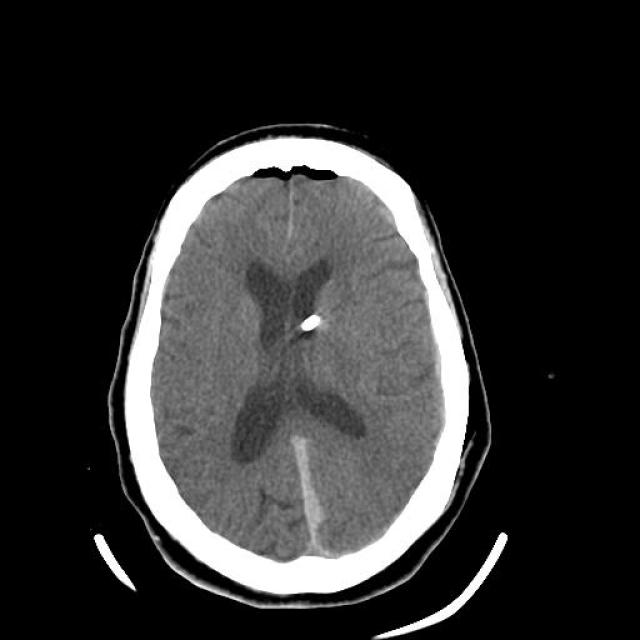Subdural: (271, 424, 351, 576)
